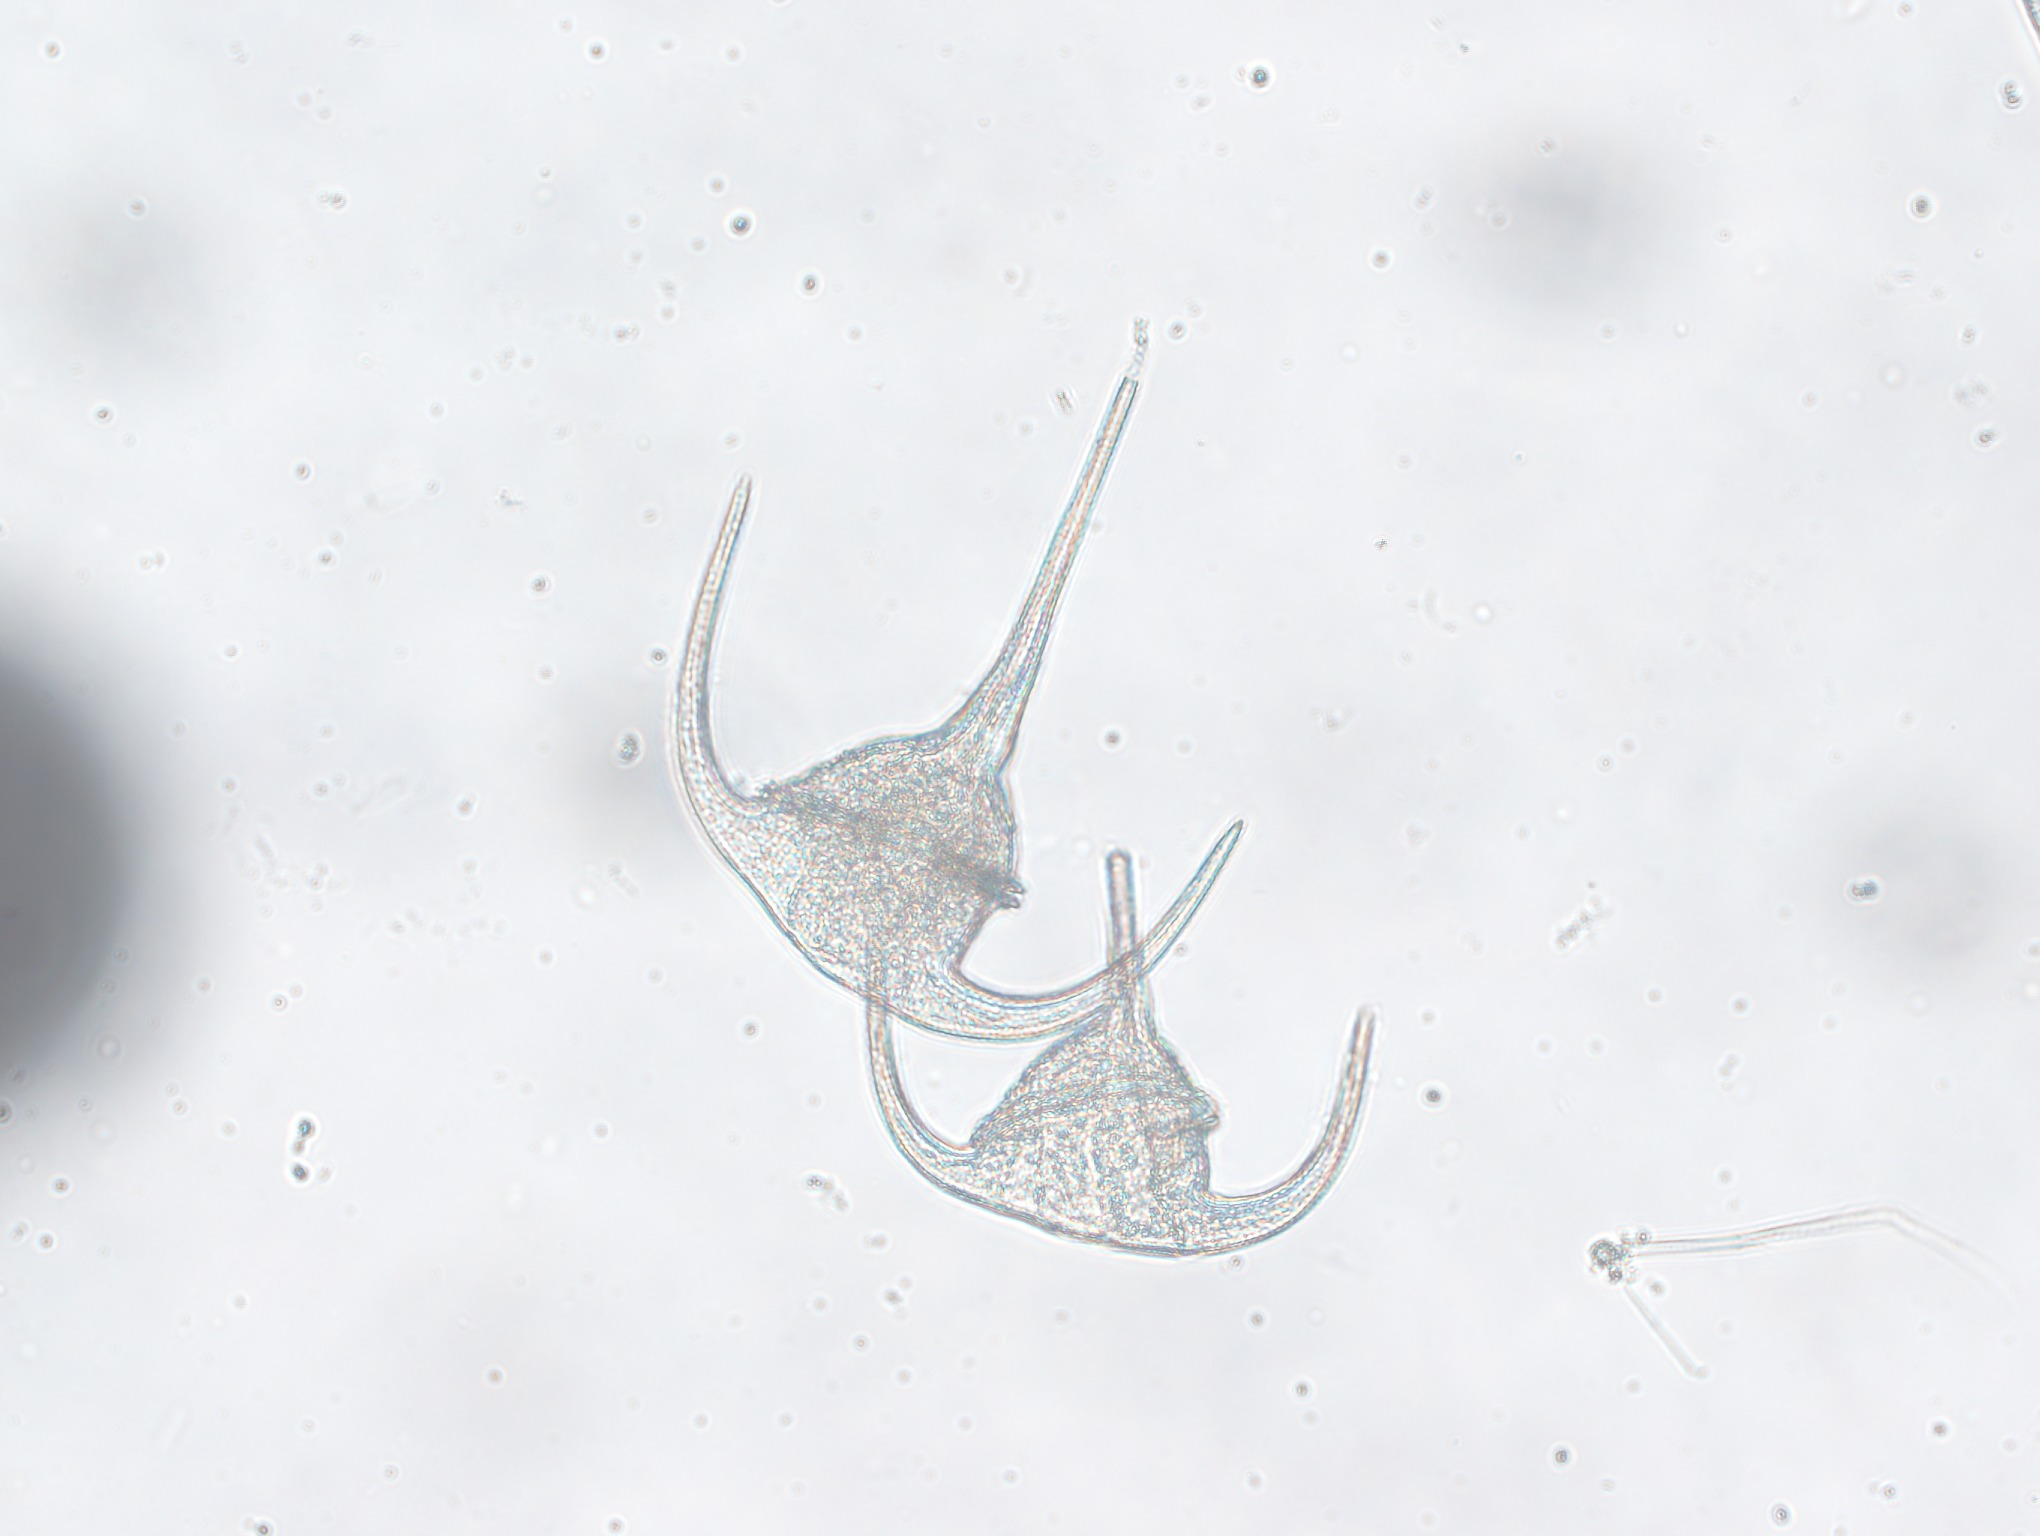ceratium tripos: (635, 340, 1251, 1044), (843, 876, 1388, 1263)
